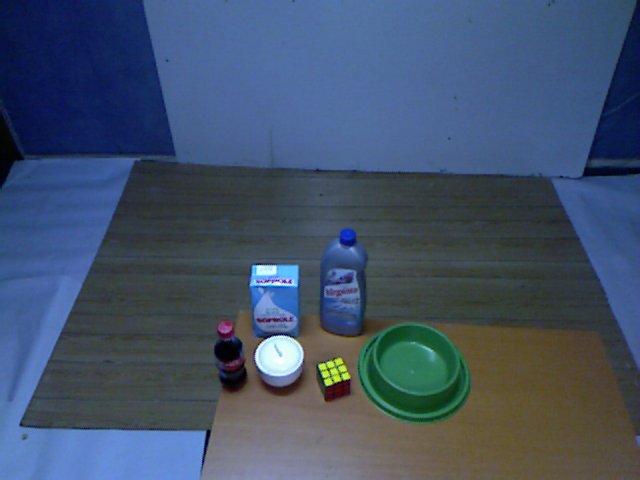azucarero: (250, 332, 310, 392)
cera: (317, 227, 371, 342)
coca: (210, 321, 249, 392)
cubix: (310, 352, 357, 403)
leche: (246, 257, 304, 341)
platoperro: (354, 318, 475, 427)
